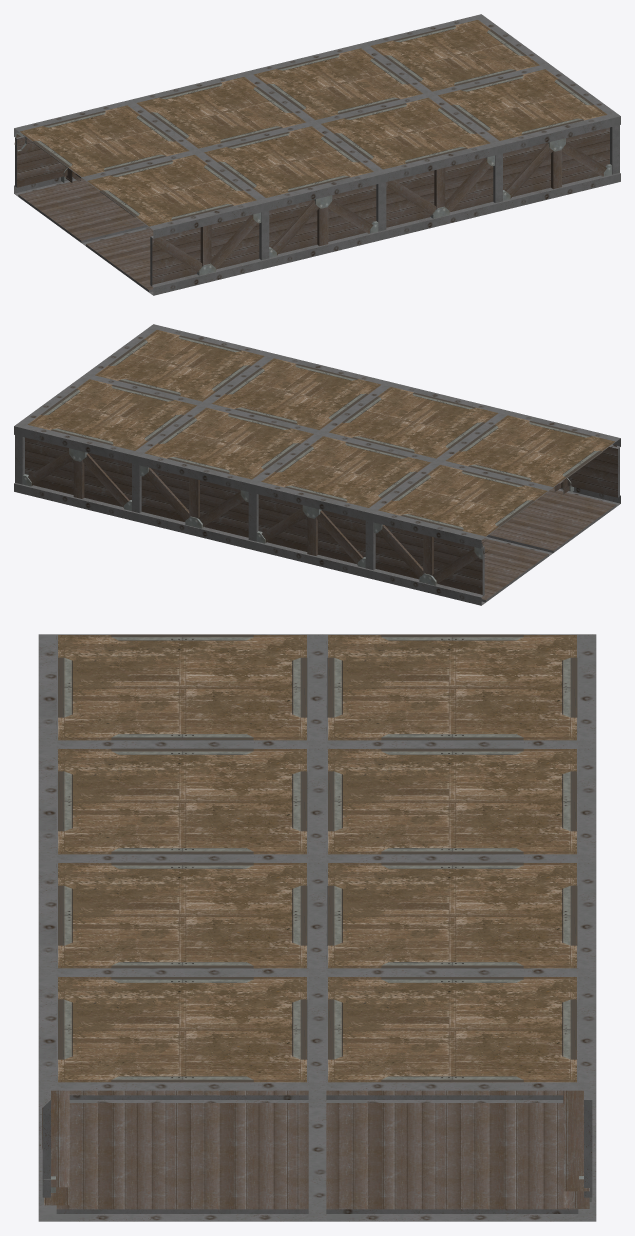
Rendered from Ob_WoodPlatformThick_RC.fbx.
The picture shows the model from 3 angles, top to bottom: view 1: azimuth 30°, elevation 25°; view 2: azimuth 150°, elevation 25°; view 3: azimuth 270°, elevation 25°; orthographic projection. The views are drawn at different scales.
Visible parts, largest first — view 1: Ob_WoodPlatformThick_RC; view 2: Ob_WoodPlatformThick_RC; view 3: Ob_WoodPlatformThick_RC.
Boxes of the visible parts, x1,y1,x2,y2 form: Ob_WoodPlatformThick_RC: [14, 14, 620, 295]; Ob_WoodPlatformThick_RC: [14, 324, 620, 605]; Ob_WoodPlatformThick_RC: [38, 634, 596, 1221].
Bounding box in the file's own units: 3008 × 402 × 1550.
